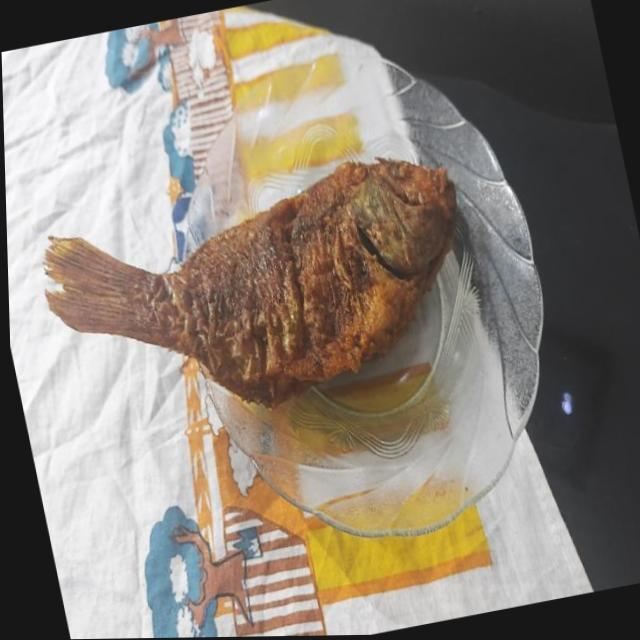ikan_mujair: (46, 158, 457, 405)
